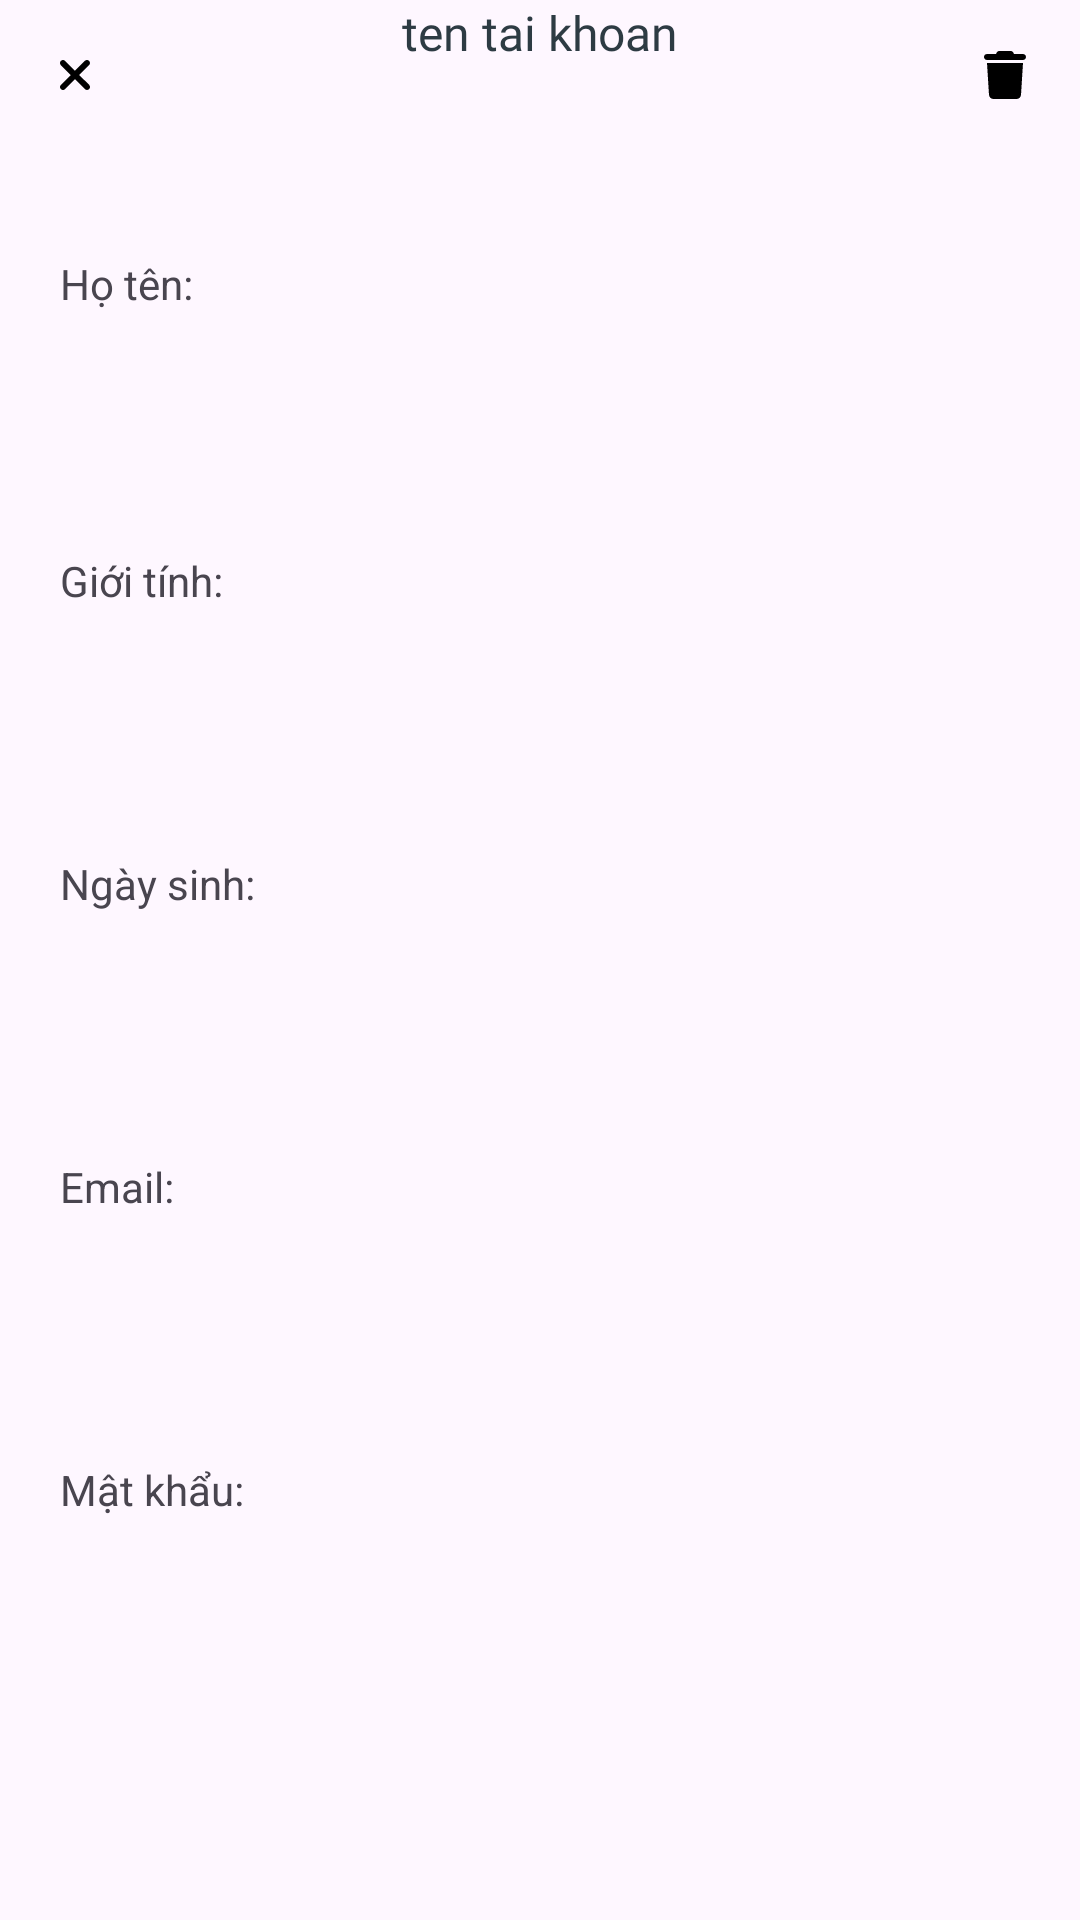

Screen size 1080×1920. Icon name, then its box in pixels as bbox=[x1, y1, x2, y2]:
Thoát: bbox=[60, 60, 90, 90]
Xóa: bbox=[984, 51, 1026, 99]
